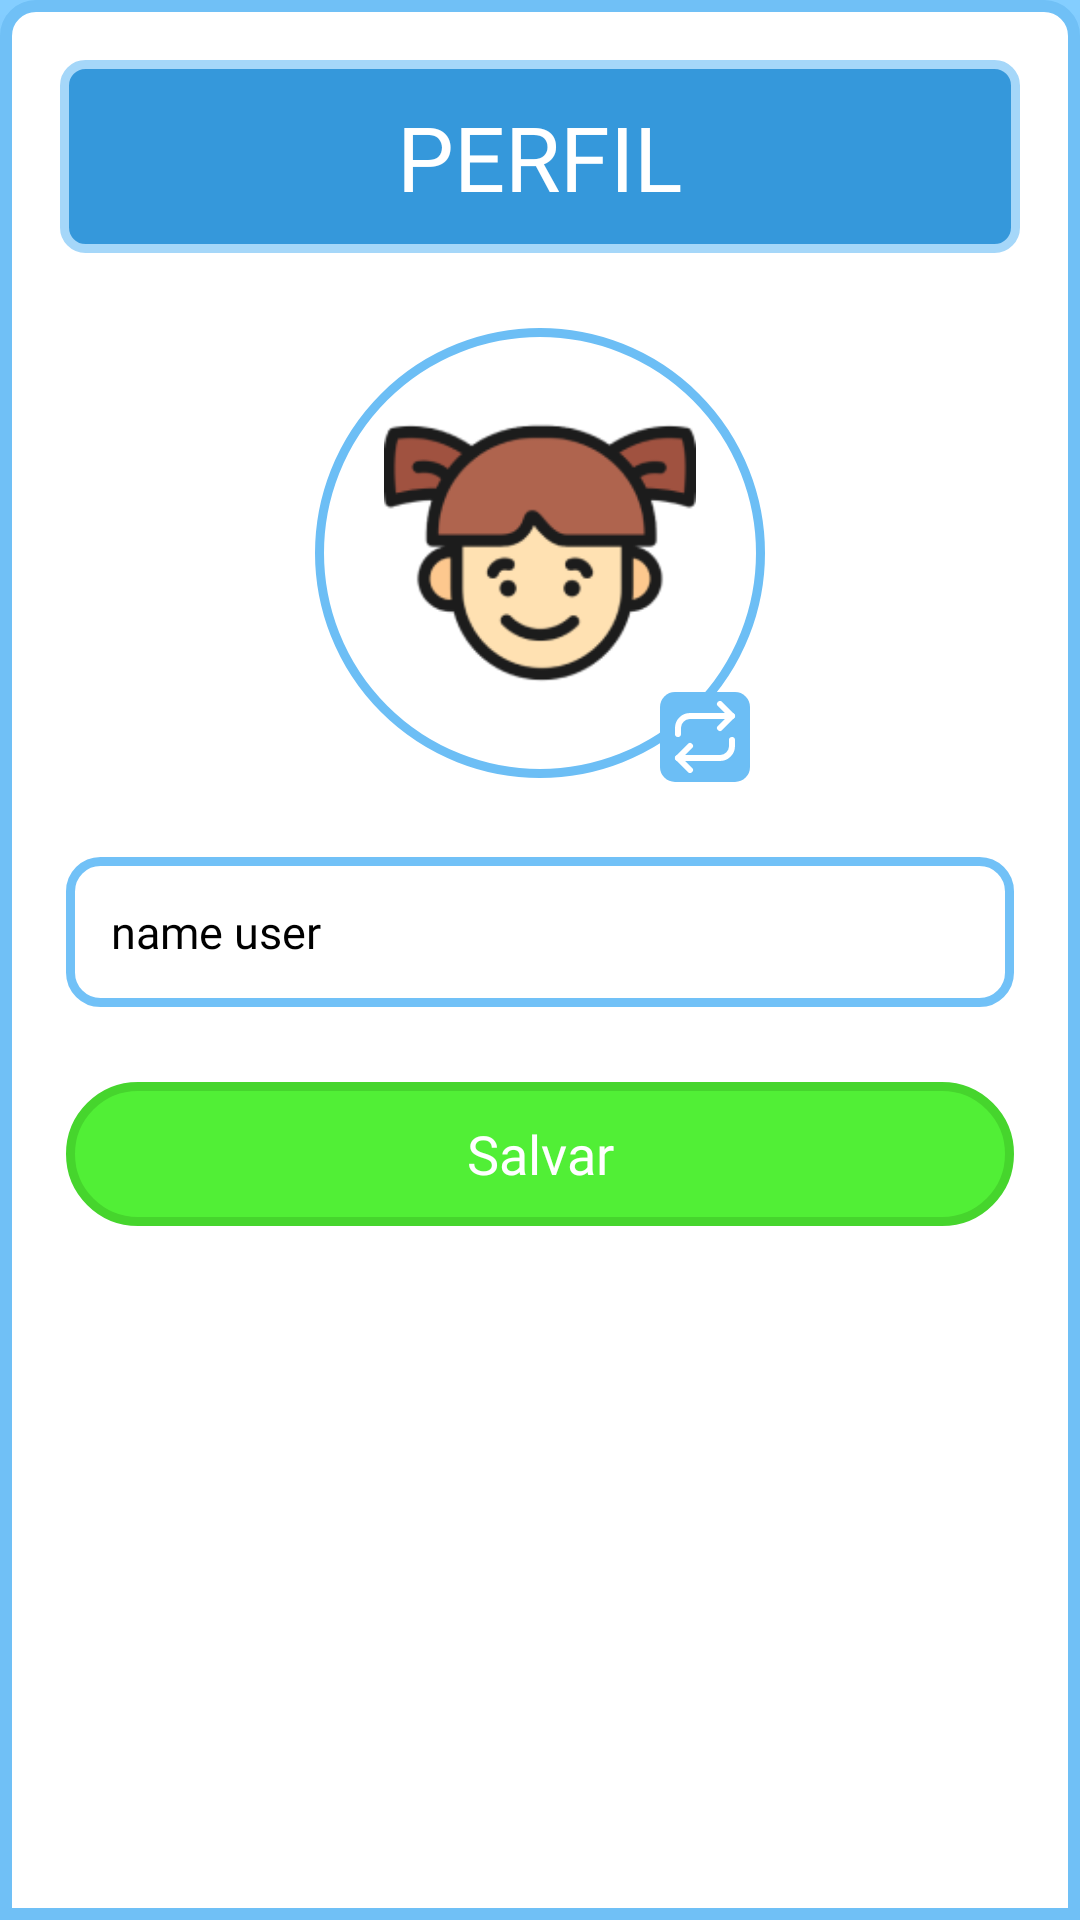

Locate icon controls on the screen. Image size 1080*1920, boxes as (x1,y1,x2,y2).
girl profile: (384,424,696,681)
replace: (660,692,750,782)
